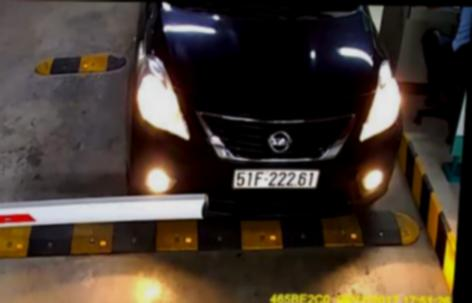License_Plate: (229, 163, 321, 195)
